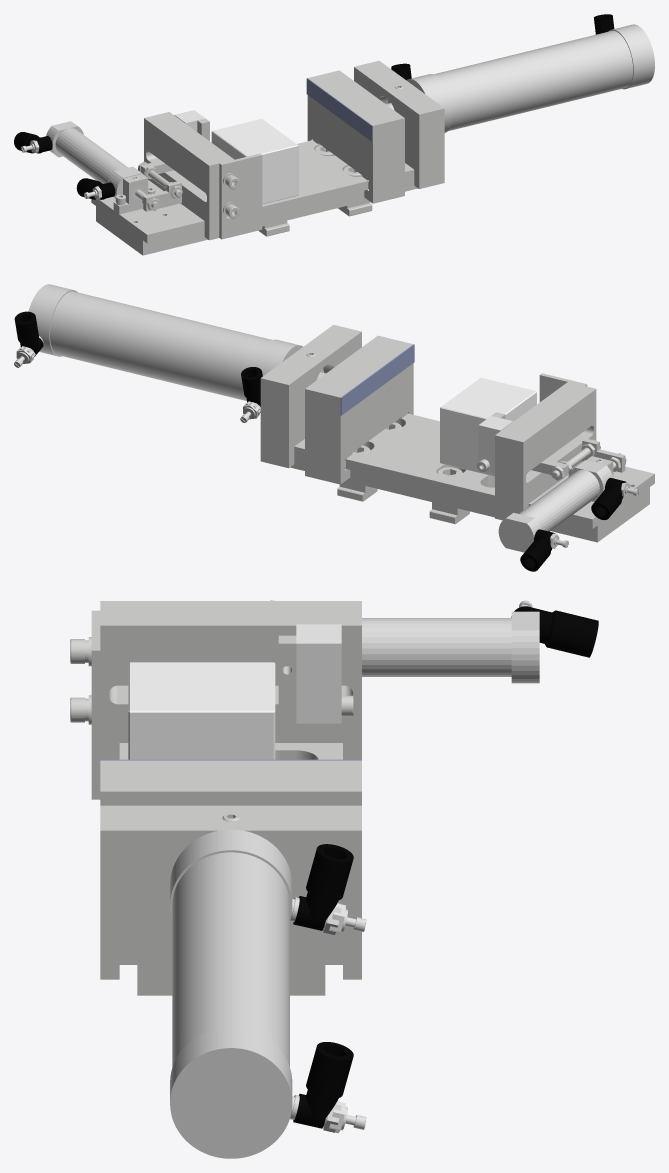
The model's file is DualAxisViceBMPM.fbx.
3 views of the same model, one above another, from view 1: azimuth 30°, elevation 25°; view 2: azimuth 150°, elevation 25°; view 3: azimuth 270°, elevation 25° (orthographic). The views are drawn at different scales.
Visible parts, largest first — view 1: IKX3100501; view 2: IKX3100501; view 3: IKX3100501.
Boxes of the visible parts, x1,y1,x2,y2 form: IKX3100501: [14, 14, 654, 255]; IKX3100501: [14, 284, 654, 571]; IKX3100501: [70, 600, 598, 1158].
Size of the model in its own units: 42.73 by 7.63 by 17.99.
